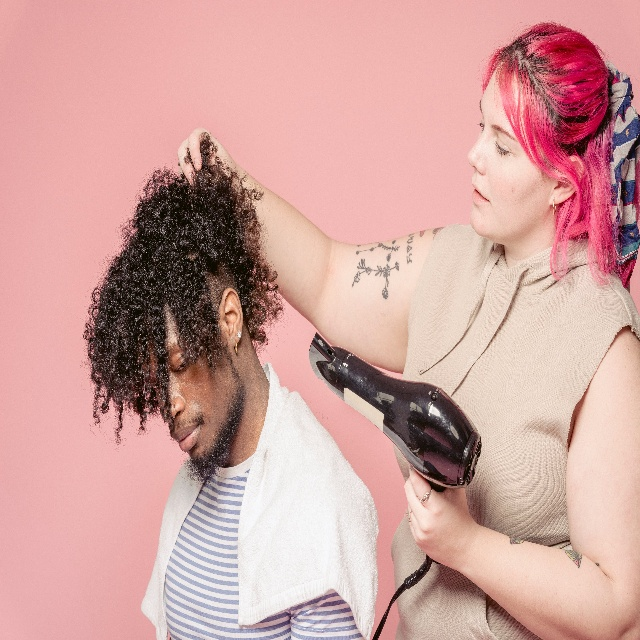Sin_guantes: (404, 465, 478, 573), (178, 126, 236, 187)
